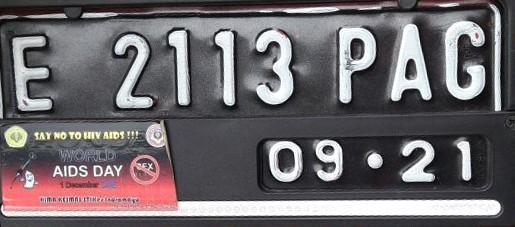1: (158, 22, 203, 111), (203, 24, 246, 110)
2: (100, 26, 160, 112)
3: (237, 24, 303, 110)
A: (382, 18, 437, 104)
E: (6, 30, 60, 115)
G: (438, 21, 495, 104)
P: (324, 24, 380, 108)
